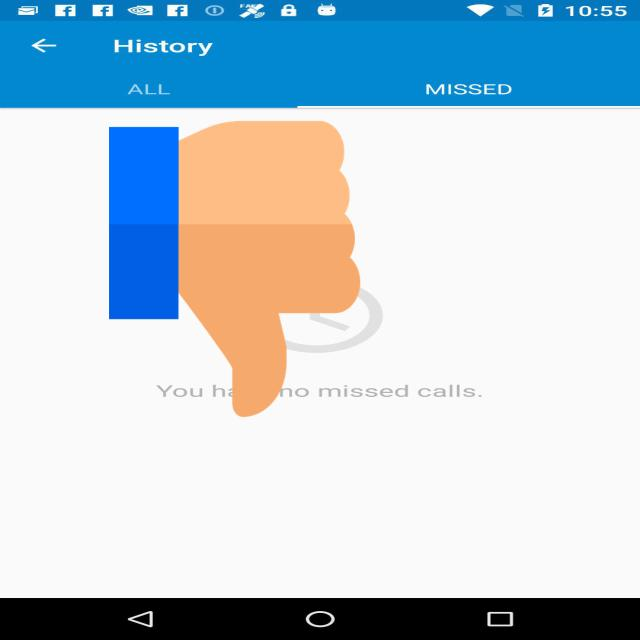obstruction: (109, 114, 360, 424)
